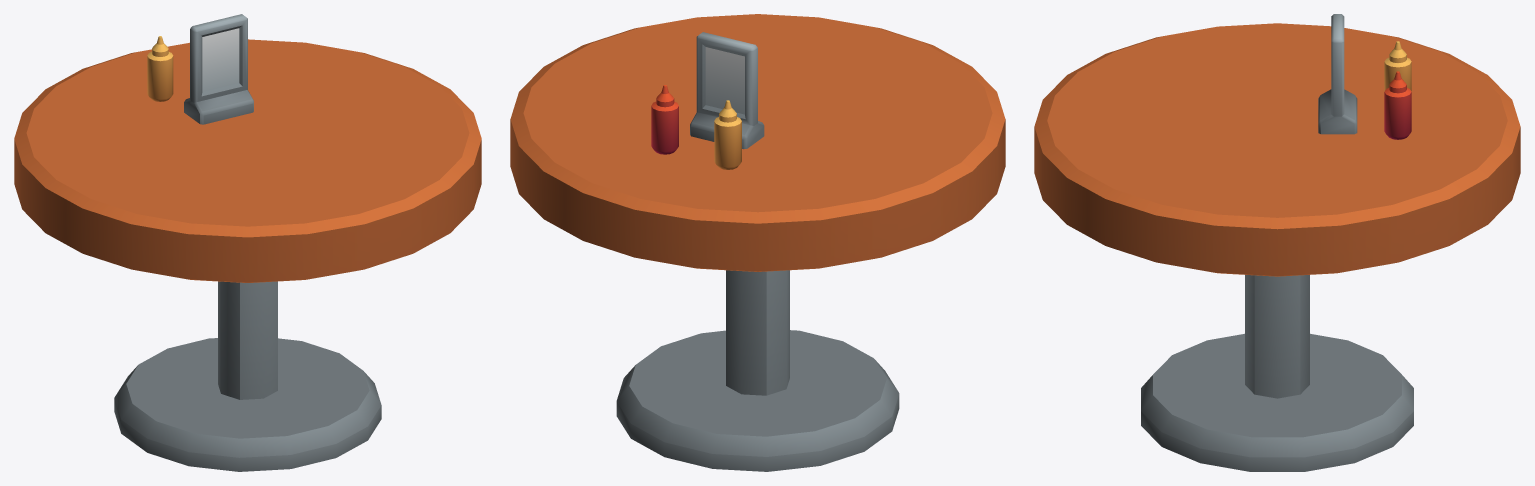
File: CafeTable.obj
3 views of the same model, side by side, from view 1: azimuth 30°, elevation 25°; view 2: azimuth 150°, elevation 25°; view 3: azimuth 270°, elevation 25° (orthographic). The views are drawn at different scales.
Parts seen in each view (by area): view 1: table_round_A_small_decorated_Cylinder.010; view 2: table_round_A_small_decorated_Cylinder.010; view 3: table_round_A_small_decorated_Cylinder.010.
Part boxes in pixels (left/top/right/bottom): table_round_A_small_decorated_Cylinder.010: left=14, top=14, right=481, bottom=471; table_round_A_small_decorated_Cylinder.010: left=510, top=14, right=1005, bottom=471; table_round_A_small_decorated_Cylinder.010: left=1034, top=14, right=1520, bottom=471.
Bounding box in the file's own units: 1.5 × 1.32 × 1.5.
Materials: 1 (1 with a texture image).
